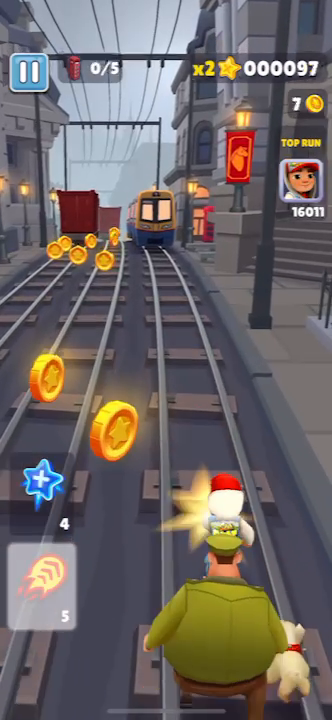train: (124, 188, 177, 250)
